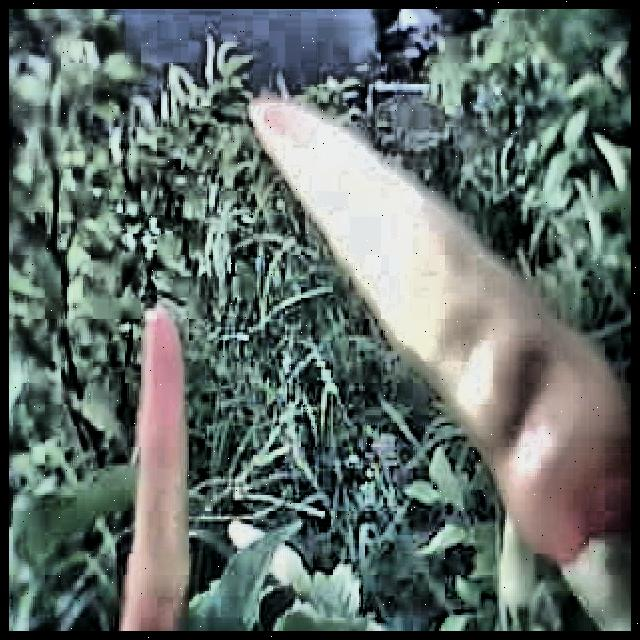Cabai: (257, 92, 631, 522), (129, 313, 189, 631)
